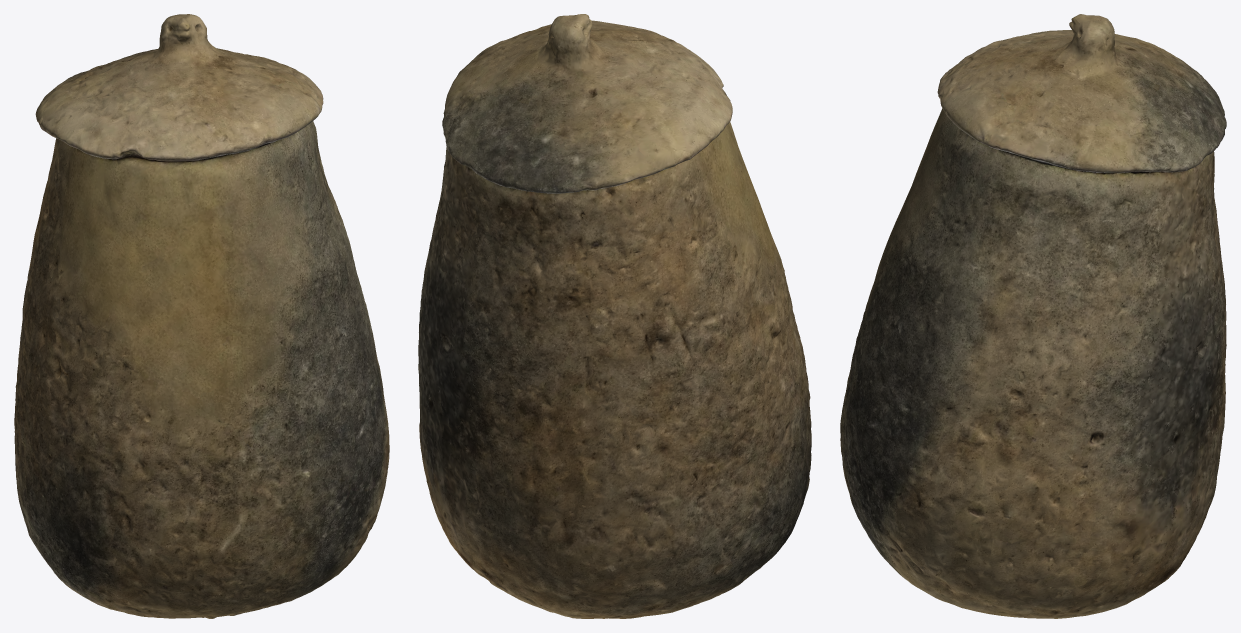
The picture shows the model from 3 angles, left to right: view 1: azimuth 30°, elevation 25°; view 2: azimuth 150°, elevation 25°; view 3: azimuth 270°, elevation 25°; orthographic projection. The views are drawn at different scales.
Parts seen in each view (by area): view 1: Mesh_0.028; view 2: Mesh_0.028; view 3: Mesh_0.028.
Part boxes in pixels (left/top/right/bottom): Mesh_0.028: left=14, top=14, right=389, bottom=618; Mesh_0.028: left=418, top=14, right=811, bottom=618; Mesh_0.028: left=840, top=14, right=1226, bottom=618.
Bounding box in the file's own units: 0.1735 × 0.2826 × 0.1726.
1 material, 1 textured.
